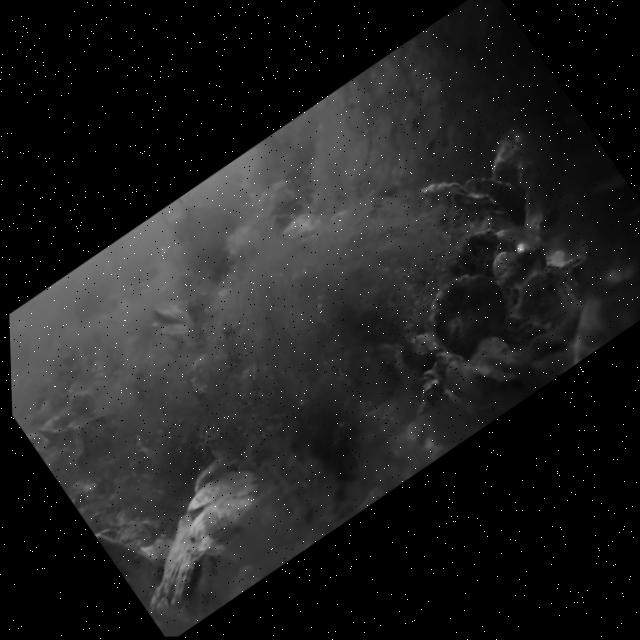Oyster-Closed: (149, 302, 198, 325), (159, 321, 193, 341)
Oyster-Indeterminate: (429, 268, 515, 363), (443, 334, 537, 402), (448, 222, 516, 273), (463, 173, 530, 223), (410, 173, 477, 204), (445, 190, 512, 218)
